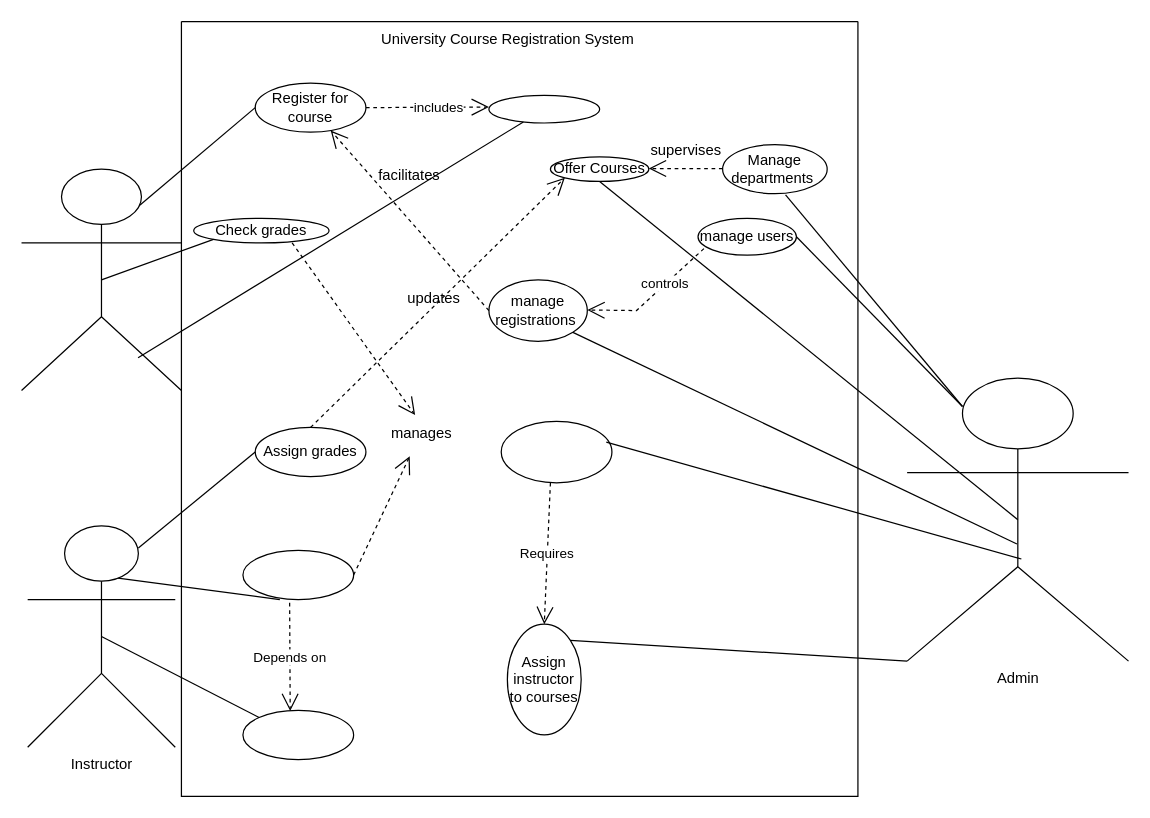
Some shapes in this 1150 by 818 pixel diagram are drawn without their labels. Here are the shapes that lost their labels. From the top down, the box of each, then its label:
(488, 94, 600, 123): View Schedule
(20, 168, 181, 391): Student
(500, 420, 612, 483): manage courses and schedules
(242, 549, 354, 600): manage course schedule
(242, 709, 354, 760): View assigned course
